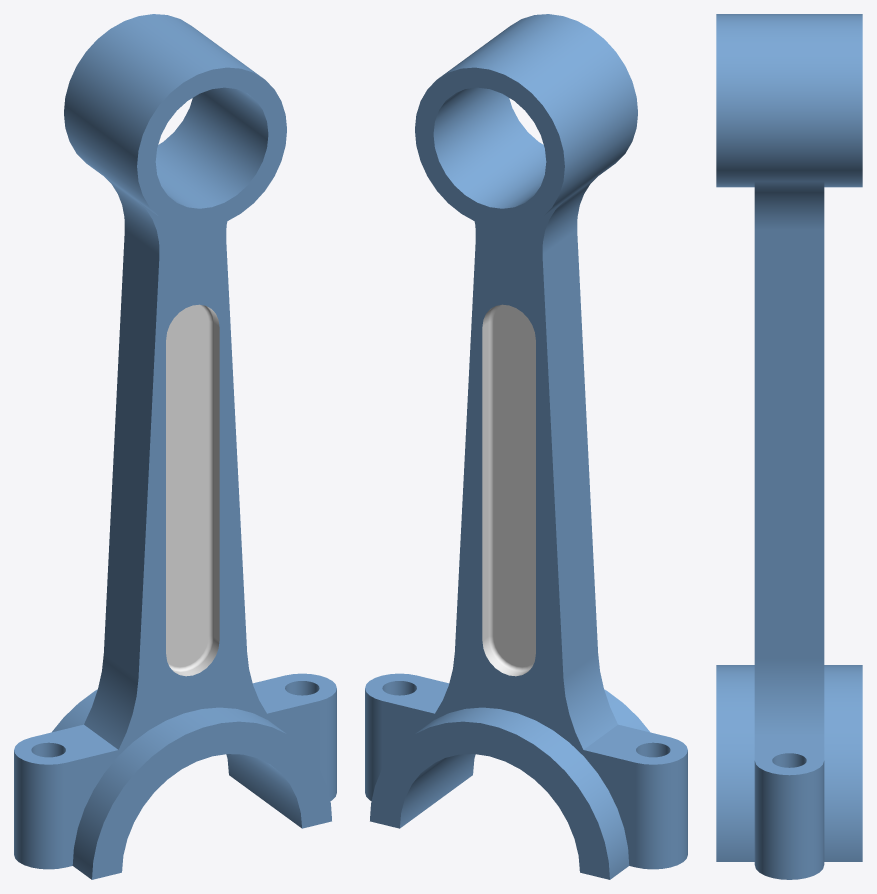
The picture shows the model from 3 angles, left to right: view 1: azimuth 30°, elevation 25°; view 2: azimuth 150°, elevation 25°; view 3: azimuth 270°, elevation 25°; orthographic projection.
Parts seen in each view (by area): view 1: 04_con_rod; view 2: 04_con_rod; view 3: 04_con_rod.
Part boxes in pixels (x1,y1,x2,y2): 04_con_rod: (14, 14, 336, 879); 04_con_rod: (365, 14, 687, 879); 04_con_rod: (716, 14, 862, 879).
Bounding box in the file's own units: 0.094 × 0.2237 × 0.038.
